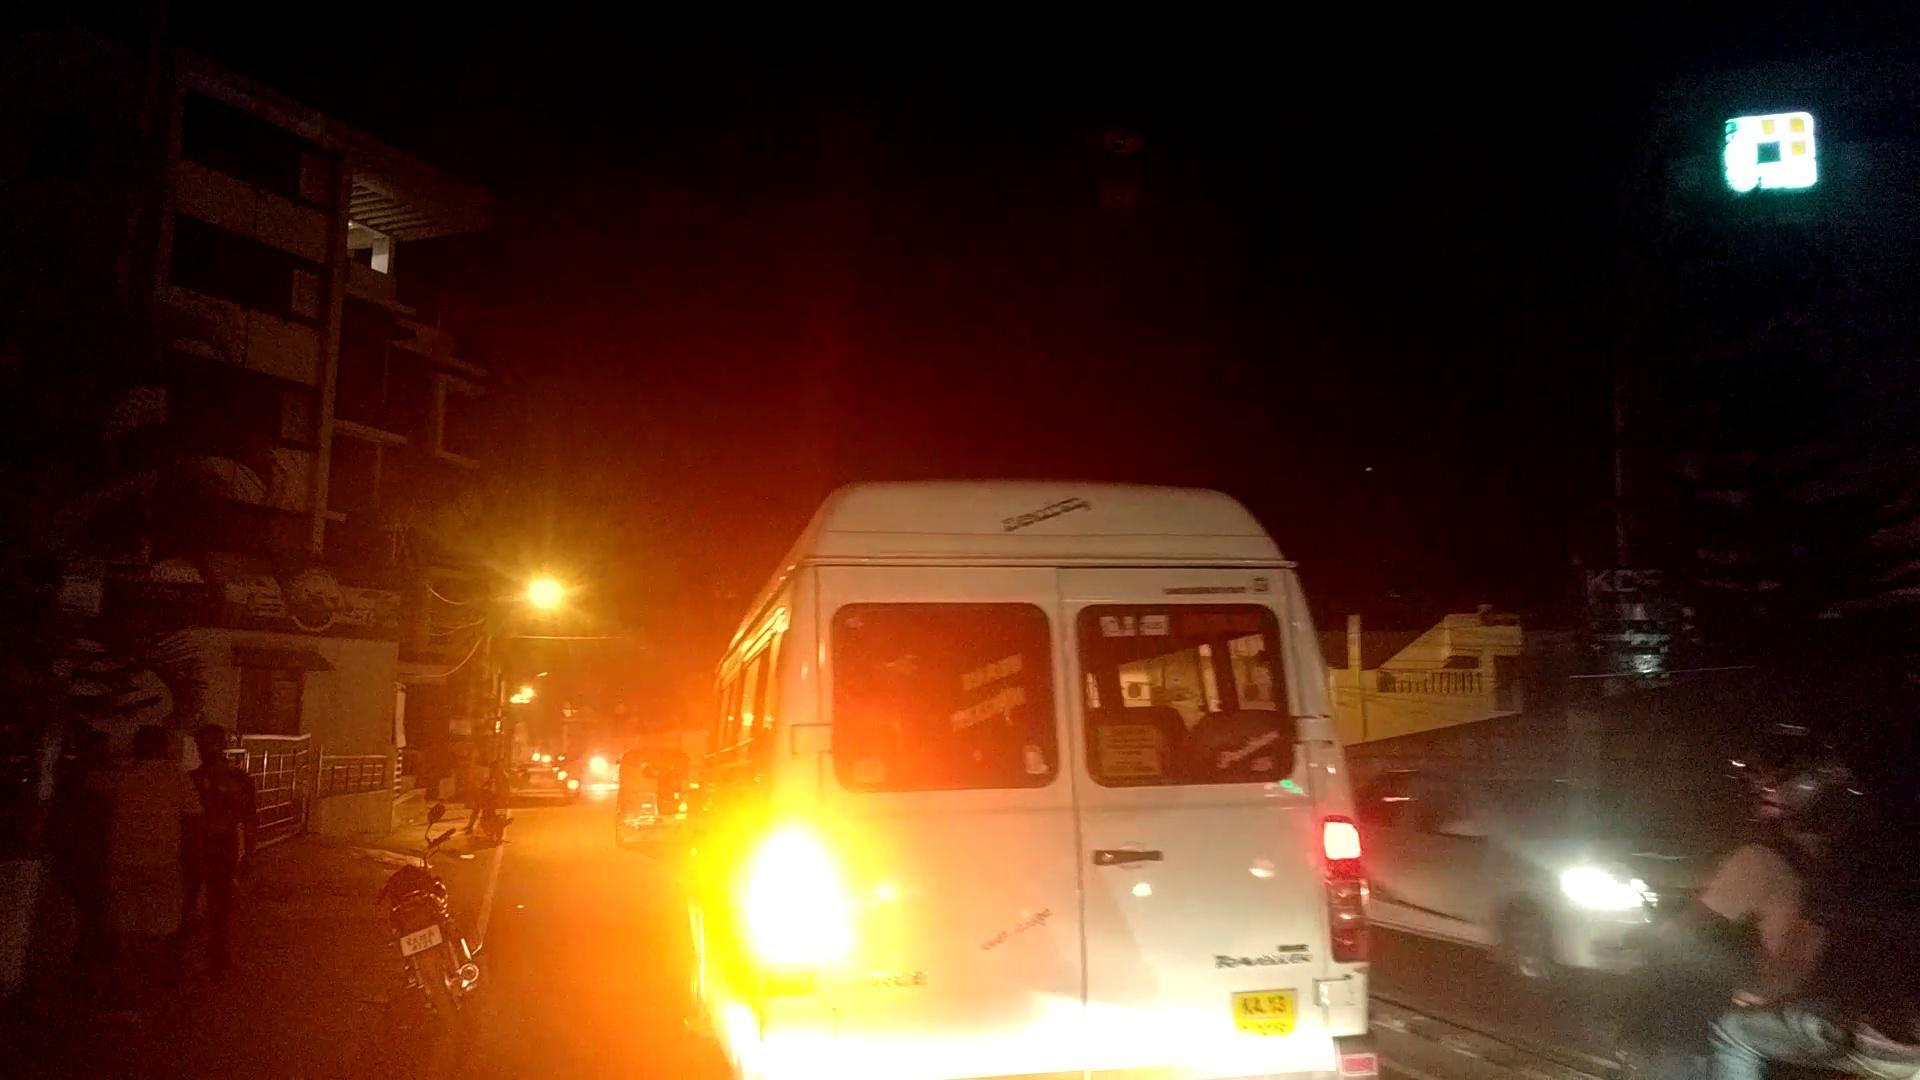on: (400, 411, 640, 827)
